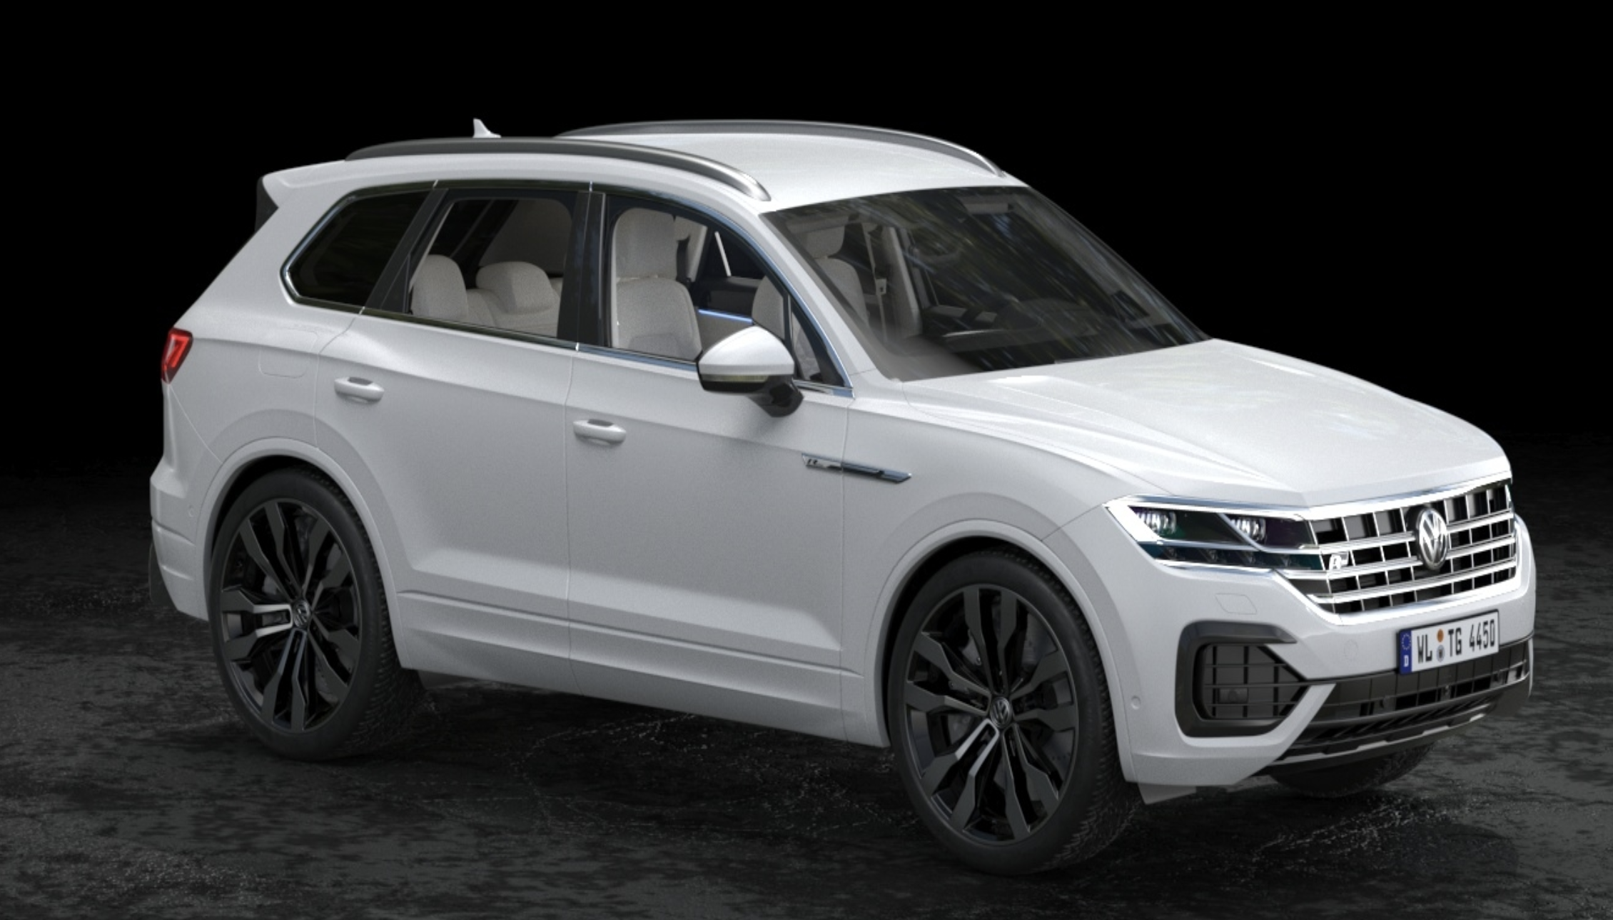hatch: (253, 324, 320, 382)
